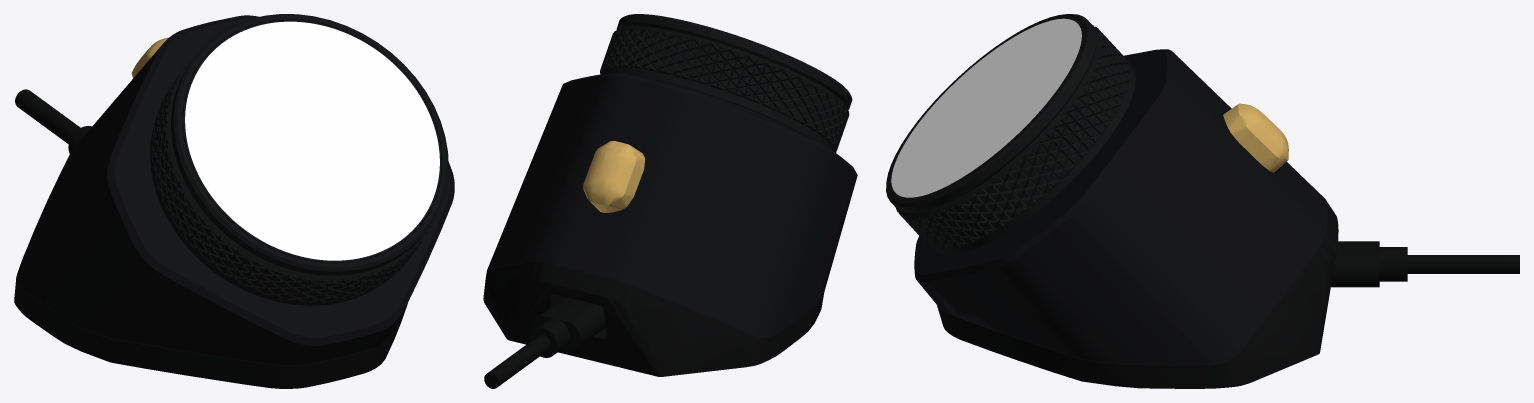
File: tp035-CZR2trDq.glb
The picture shows the model from 3 angles, left to right: view 1: azimuth 30°, elevation 25°; view 2: azimuth 150°, elevation 25°; view 3: azimuth 270°, elevation 25°; orthographic projection. The views are drawn at different scales.
Visible parts, largest first — view 1: BodyShell_Envelope, ScreenSurface, RotaryKnob_OriginalCAD, BaseShell_Envelope, STEP_Solid_14; view 2: BodyShell_Envelope, BaseShell_Envelope, RotaryKnob_OriginalCAD, STEP_Solid_14, ChargingContact_A, DisplayHousing; view 3: BodyShell_Envelope, RotaryKnob_OriginalCAD, ScreenSurface, BaseShell_Envelope, STEP_Solid_14, ChargingContact_A.
Boxes of the visible parts, left/top/right/bottom form: BodyShell_Envelope: left=18, top=15, right=454, bottom=365; ScreenSurface: left=185, top=21, right=439, bottom=260; RotaryKnob_OriginalCAD: left=150, top=14, right=448, bottom=305; BaseShell_Envelope: left=14, top=169, right=407, bottom=388; STEP_Solid_14: left=15, top=89, right=91, bottom=153; BodyShell_Envelope: left=487, top=72, right=857, bottom=337; BaseShell_Envelope: left=483, top=262, right=824, bottom=376; RotaryKnob_OriginalCAD: left=600, top=14, right=852, bottom=152; STEP_Solid_14: left=484, top=297, right=605, bottom=388; ChargingContact_A: left=583, top=141, right=644, bottom=212; DisplayHousing: left=687, top=89, right=800, bottom=134; BodyShell_Envelope: left=914, top=49, right=1327, bottom=364; RotaryKnob_OriginalCAD: left=886, top=14, right=1135, bottom=254; ScreenSurface: left=891, top=18, right=1081, bottom=197; BaseShell_Envelope: left=937, top=200, right=1338, bottom=388; STEP_Solid_14: left=1331, top=241, right=1519, bottom=287; ChargingContact_A: left=1223, top=103, right=1288, bottom=172.
Size of the model in its own units: 0.0641 by 0.0553 by 0.1129.
